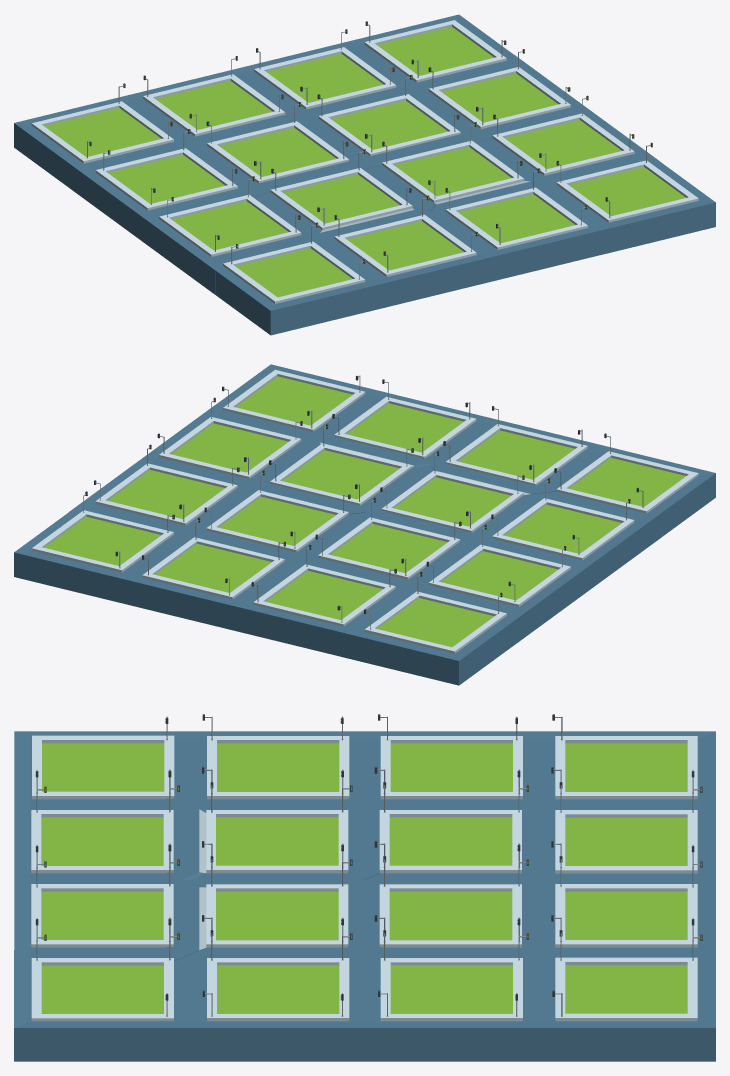
The model's file is Land2-1.glb.
3 views of the same model, one above another, from view 1: azimuth 30°, elevation 25°; view 2: azimuth 150°, elevation 25°; view 3: azimuth 270°, elevation 25° (orthographic). The views are drawn at different scales.
Visible parts, largest first — view 1: Cube.012; view 2: Cube.012; view 3: Cube.012.
Part boxes in pixels (<box>): Cube.012: <box>14,14,715,335</box>; Cube.012: <box>14,364,715,685</box>; Cube.012: <box>14,731,715,1061</box>.
Bounding box in the file's own units: 67.93 × 6.66 × 67.88.
